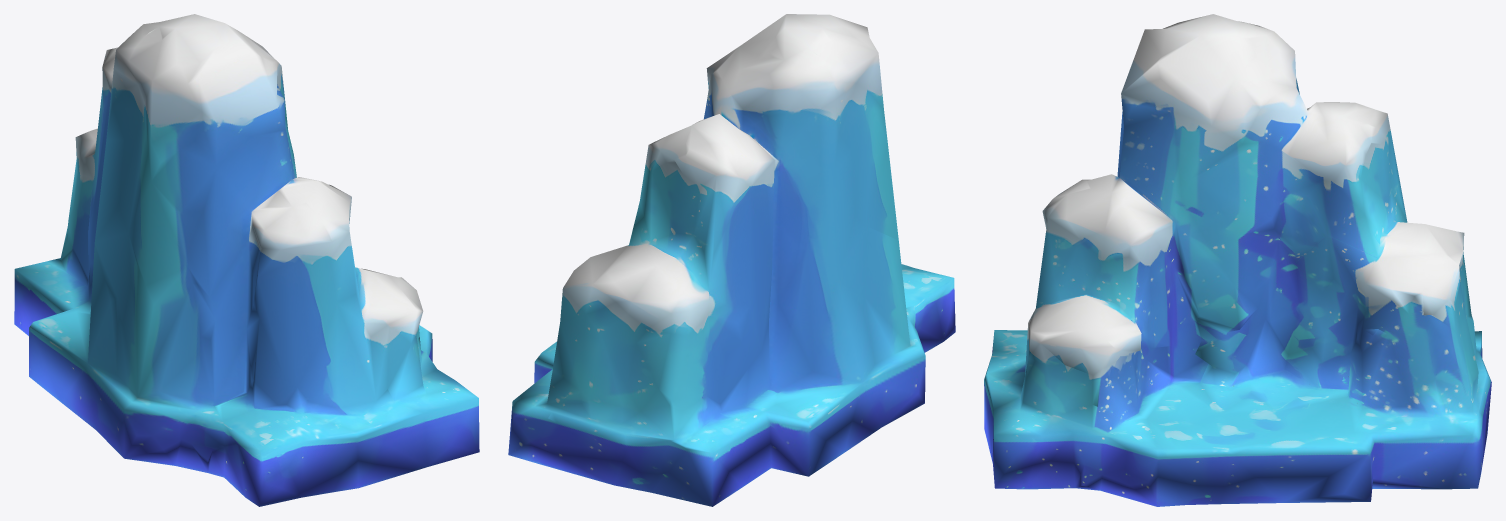
3 renders of one model, left to right at view 1: azimuth 30°, elevation 25°; view 2: azimuth 150°, elevation 25°; view 3: azimuth 270°, elevation 25°, orthographic. The views are drawn at different scales.
Parts seen in each view (by area): view 1: tripo_node_72a444ef-8b45-4cf9-9d29-ed944669b7a9; view 2: tripo_node_72a444ef-8b45-4cf9-9d29-ed944669b7a9; view 3: tripo_node_72a444ef-8b45-4cf9-9d29-ed944669b7a9.
Boxes of the visible parts, <box> form: tripo_node_72a444ef-8b45-4cf9-9d29-ed944669b7a9: <box>14,14,479,506</box>; tripo_node_72a444ef-8b45-4cf9-9d29-ed944669b7a9: <box>508,14,955,506</box>; tripo_node_72a444ef-8b45-4cf9-9d29-ed944669b7a9: <box>984,14,1491,506</box>.
Bounding box in the file's own units: 0.6885 × 0.8339 × 1.
1 material, 1 textured.
